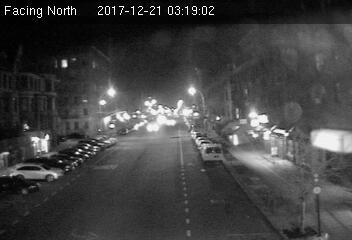truck: (199, 143, 225, 166)
